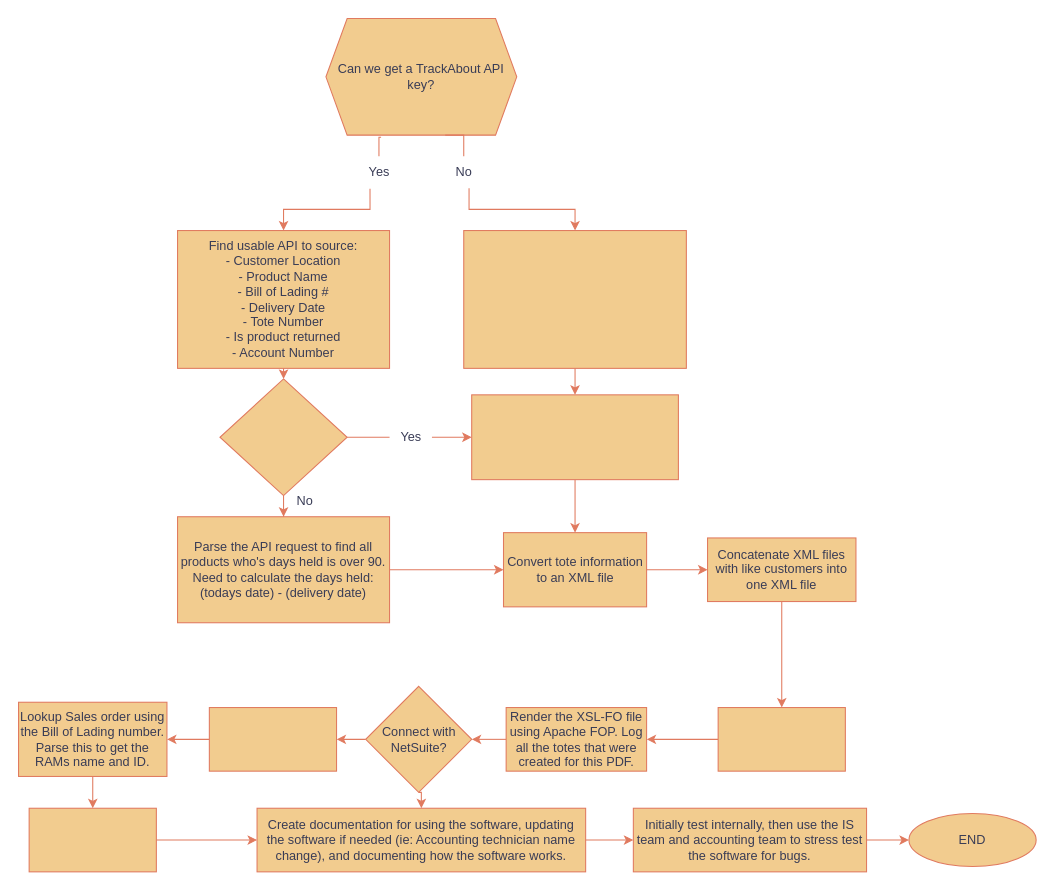
The diagram is 1055 pixels wide and 890 high, and some of its shapes have lost their labels. The centre of each missing label's shape, as x and y in pixels:
"Can we get the Report from API?" goes at (x=283, y=437).
"Create a SOAP Post request to add a Task to the RAM attaching the PDF." goes at (x=92, y=839).
"Parse the Report file and gather all needed information for each Tote Letter." goes at (x=574, y=437).
"Setup a SOAP API Integration on NetSuite." goes at (x=272, y=738).
"Transform XML file into an XSL-FO file using an XSLT stylesheet" goes at (x=781, y=738).
"Use RPA or Manually download the single report file from Track About" goes at (x=574, y=298).
